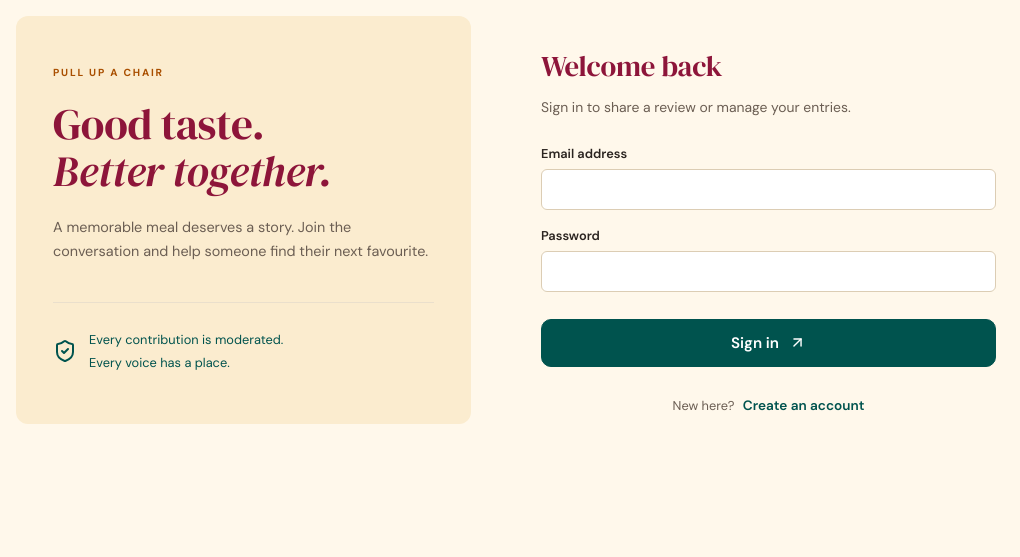
Test: Account registration › clears a previous error when switching between sign in and registration
Type "nimali@example.com" into the field labelled "Email address" at (768, 190), box [541,169,996,210]
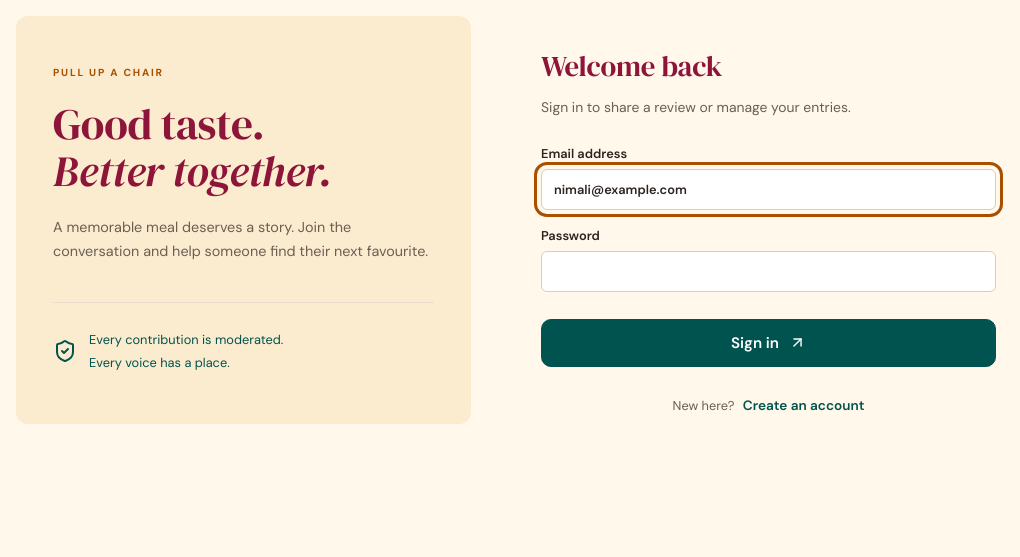
Type "correct horse" into the password field labelled "Password" at (768, 272), box [541,251,996,292]
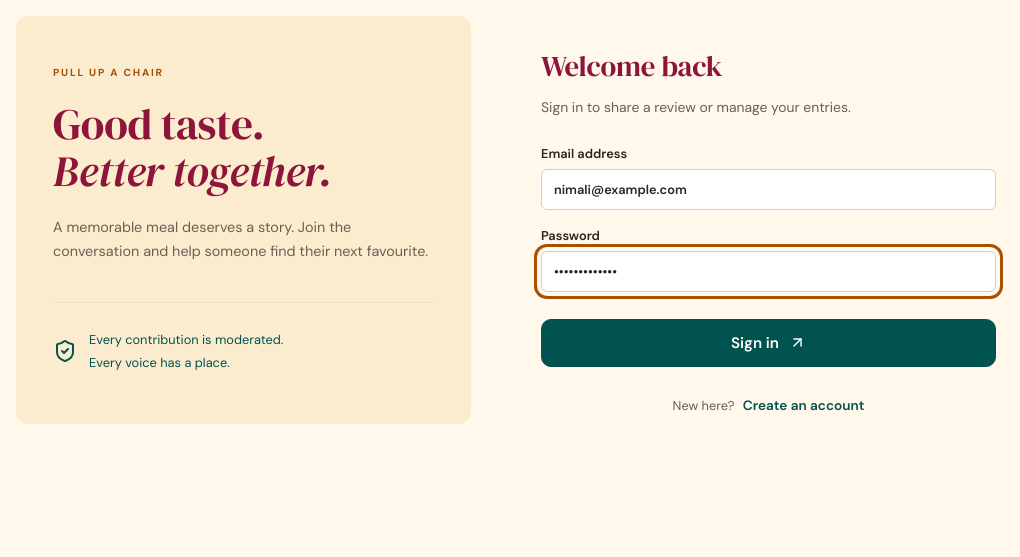
Click the button "Sign in" at (768, 343), box [541,319,996,367]
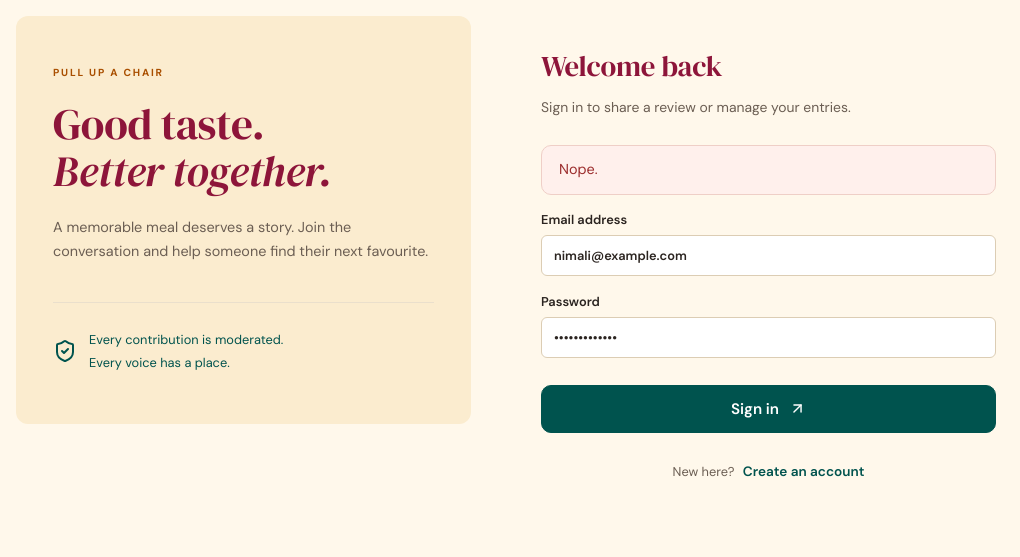
Check: the message reads "Nope.", box [559,160,598,178]
Click the button "Create an account" at (804, 472), box [743,457,864,487]
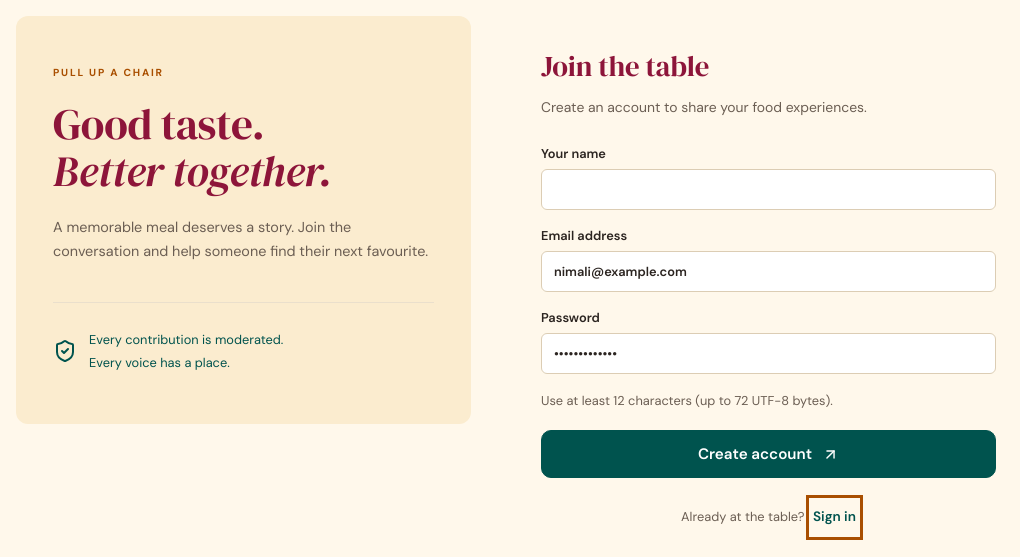
Check: the message "Nope." is gone
Click the button "Sign in" at (834, 517), box [813,502,856,533]
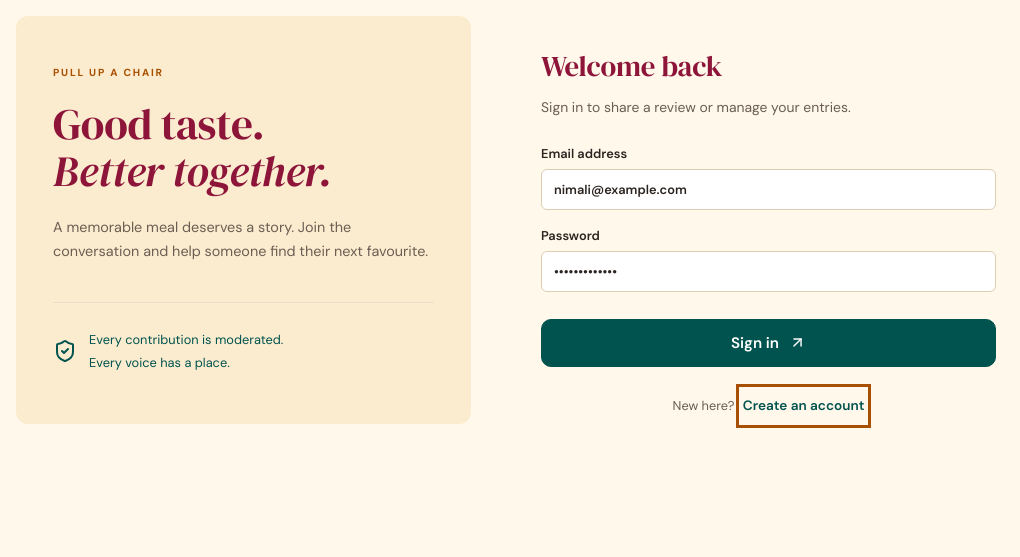
Check: the heading "Welcome back" is shown, box [541,46,722,86]
